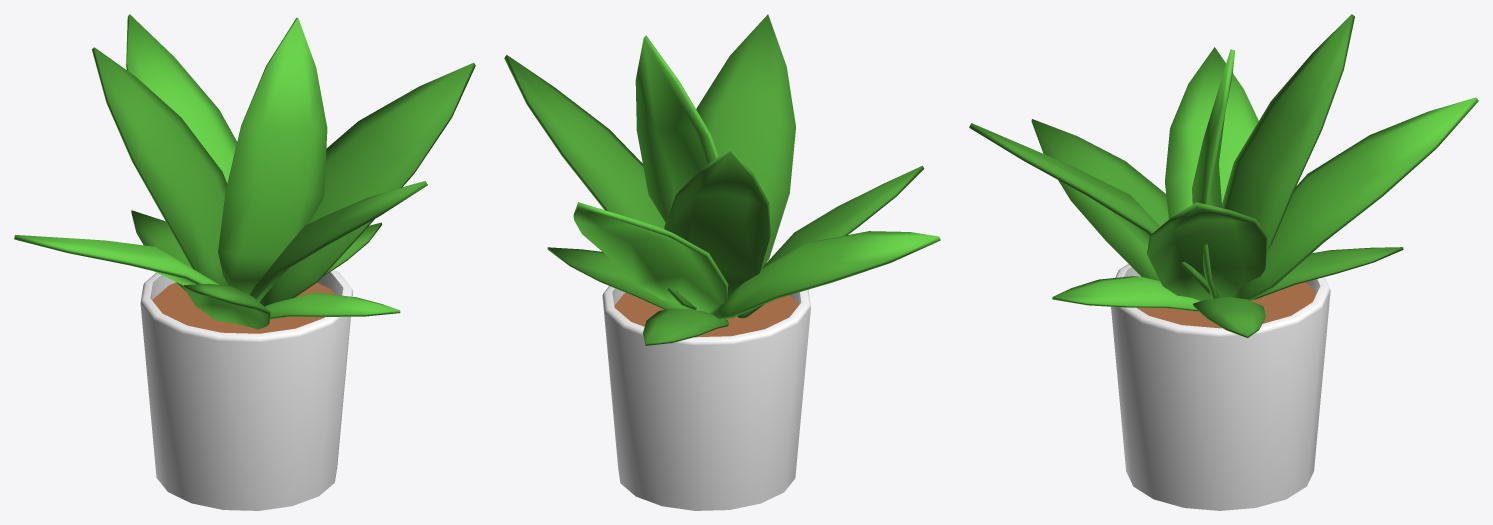
The model's file is Plant3.fbx.
3 renders of one model, left to right at view 1: azimuth 30°, elevation 25°; view 2: azimuth 150°, elevation 25°; view 3: azimuth 270°, elevation 25°, orthographic. The views are drawn at different scales.
Parts seen in each view (by area): view 1: Prop_Homeplant_01; view 2: Prop_Homeplant_01; view 3: Prop_Homeplant_01.
Part boxes in pixels (<box>): Prop_Homeplant_01: <box>14,14,475,510</box>; Prop_Homeplant_01: <box>504,14,940,510</box>; Prop_Homeplant_01: <box>969,14,1478,510</box>.
Bounding box in the file's own units: 50.94 × 46.89 × 48.1.
